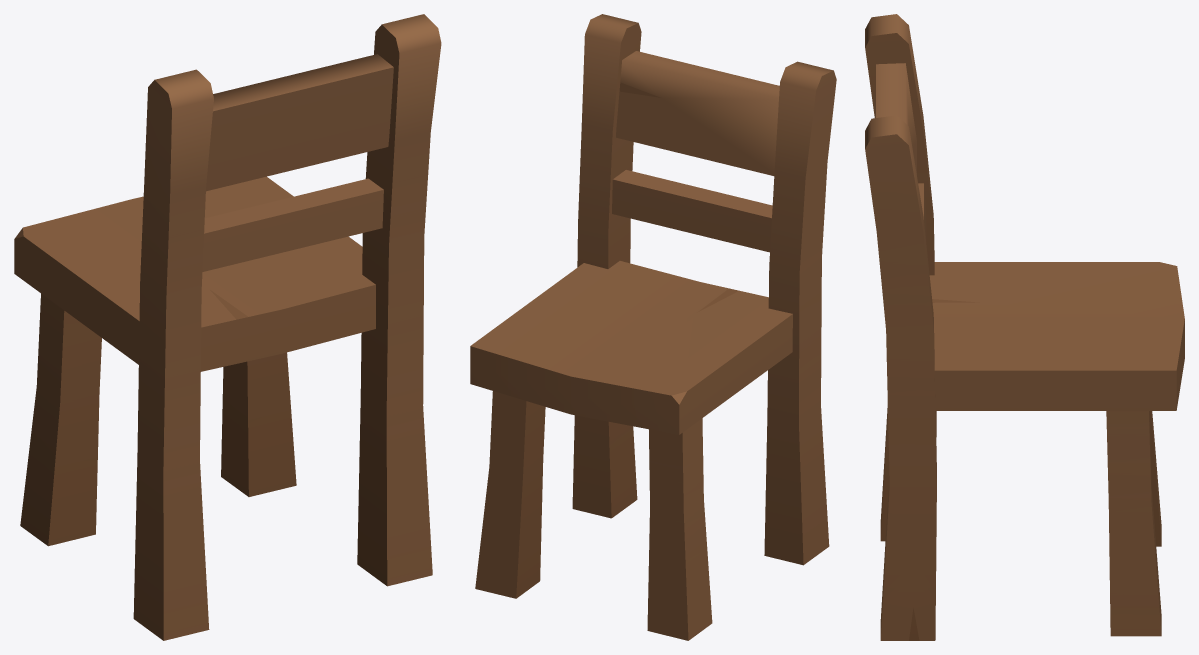
The model's file is Chair1.fbx.
3 views of the same model, side by side, from view 1: azimuth 30°, elevation 25°; view 2: azimuth 150°, elevation 25°; view 3: azimuth 270°, elevation 25° (orthographic). The views are drawn at different scales.
Visible parts, largest first — view 1: Chair1; view 2: Chair1; view 3: Chair1.
Boxes of the visible parts, <box> form: Chair1: <box>14,14,441,640</box>; Chair1: <box>470,14,836,640</box>; Chair1: <box>865,14,1184,640</box>.
Size of the model in its own units: 44.21 by 86.89 by 49.68.
